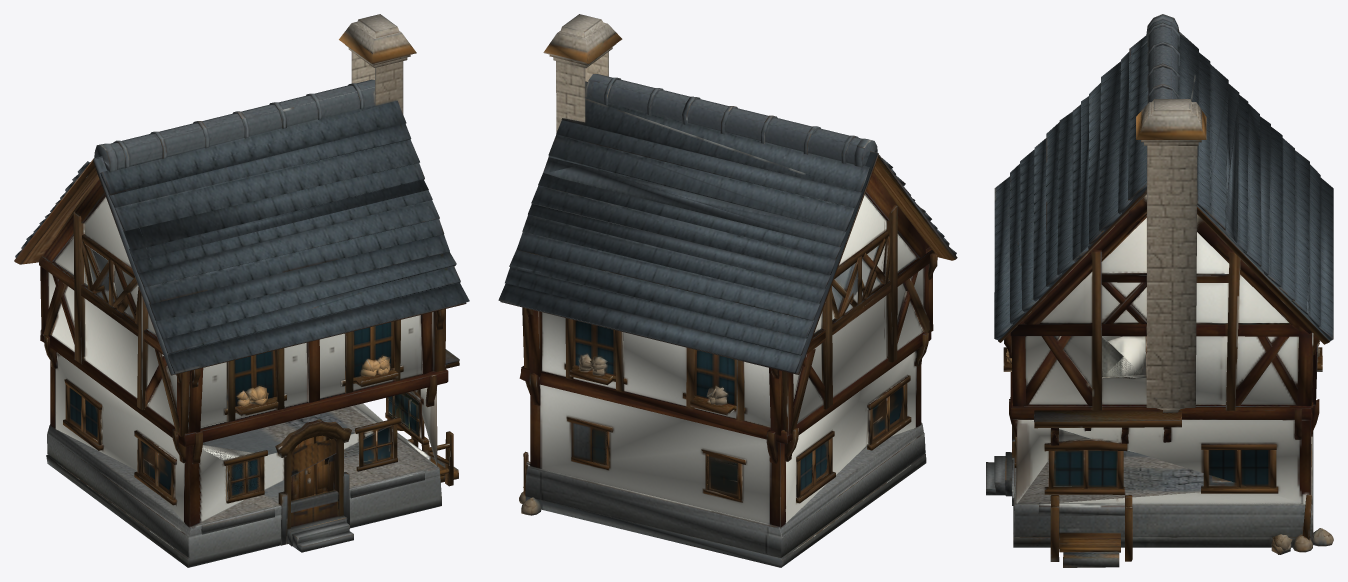
Rendered from house_a_aldmark.glb.
3 renders of one model, left to right at view 1: azimuth 30°, elevation 25°; view 2: azimuth 150°, elevation 25°; view 3: azimuth 270°, elevation 25°, orthographic. The views are drawn at different scales.
Size of the model in its own units: 0.7451 by 0.9531 by 0.6689.
1 material, 1 textured.
